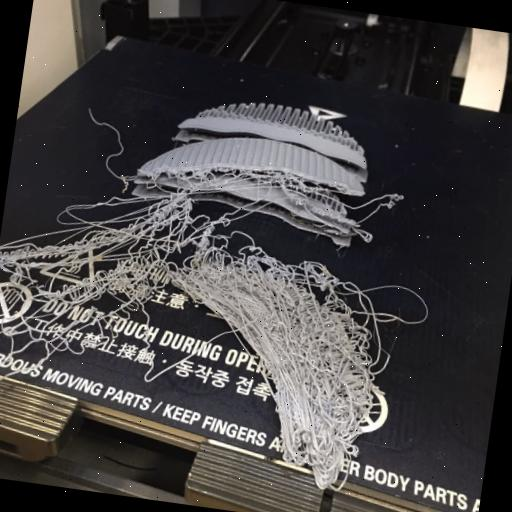spaghetti: (15, 175, 415, 512)
